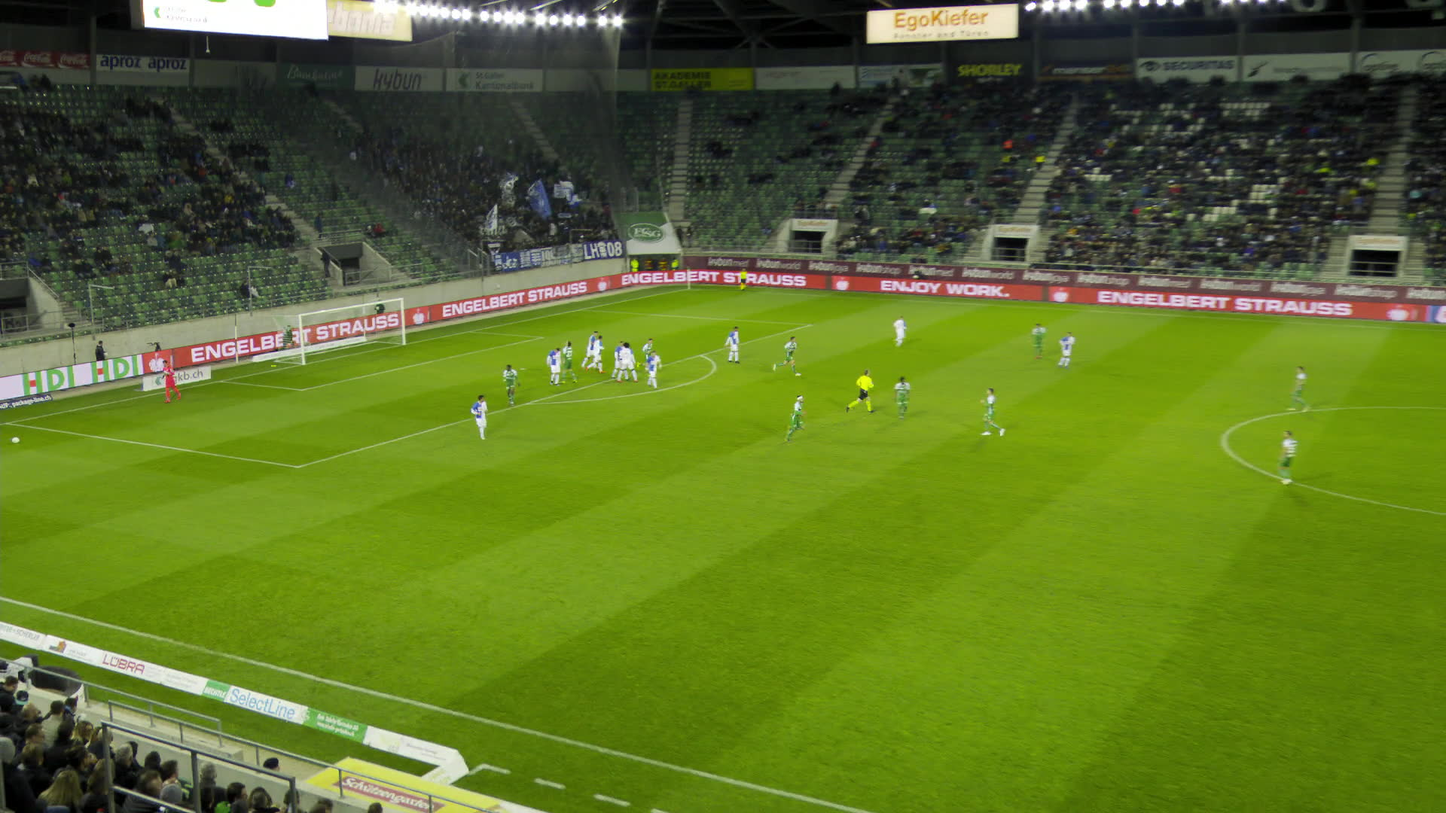ball: (11, 436, 20, 443)
player: (780, 394, 810, 443), (1285, 430, 1309, 486), (1318, 365, 1346, 413), (987, 386, 1011, 437), (471, 391, 490, 438), (621, 340, 642, 381), (779, 335, 800, 376), (504, 363, 522, 406), (161, 359, 179, 401), (589, 334, 608, 373), (901, 376, 917, 420), (563, 340, 579, 383), (1029, 321, 1047, 358), (615, 340, 632, 379), (639, 336, 656, 375), (649, 349, 665, 388), (549, 346, 564, 386), (1065, 332, 1082, 367), (585, 330, 599, 367), (730, 325, 743, 362), (896, 315, 911, 346)
referee: (853, 370, 878, 415), (743, 265, 752, 290)
